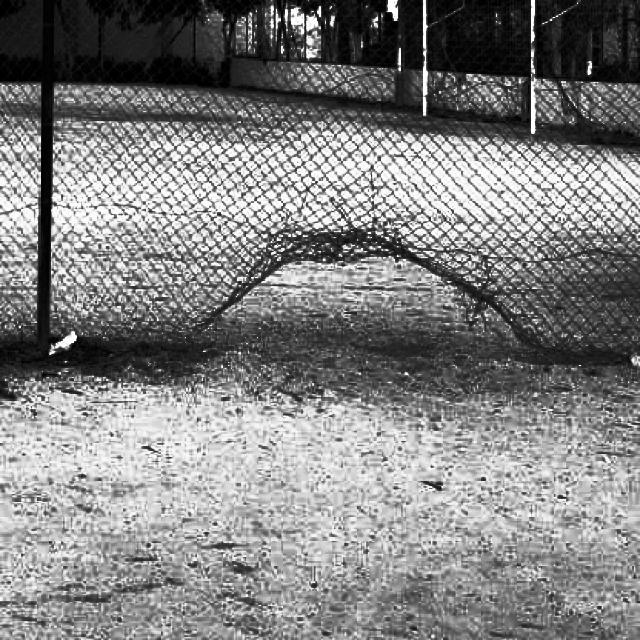anomaly-fence: (173, 185, 533, 365)
